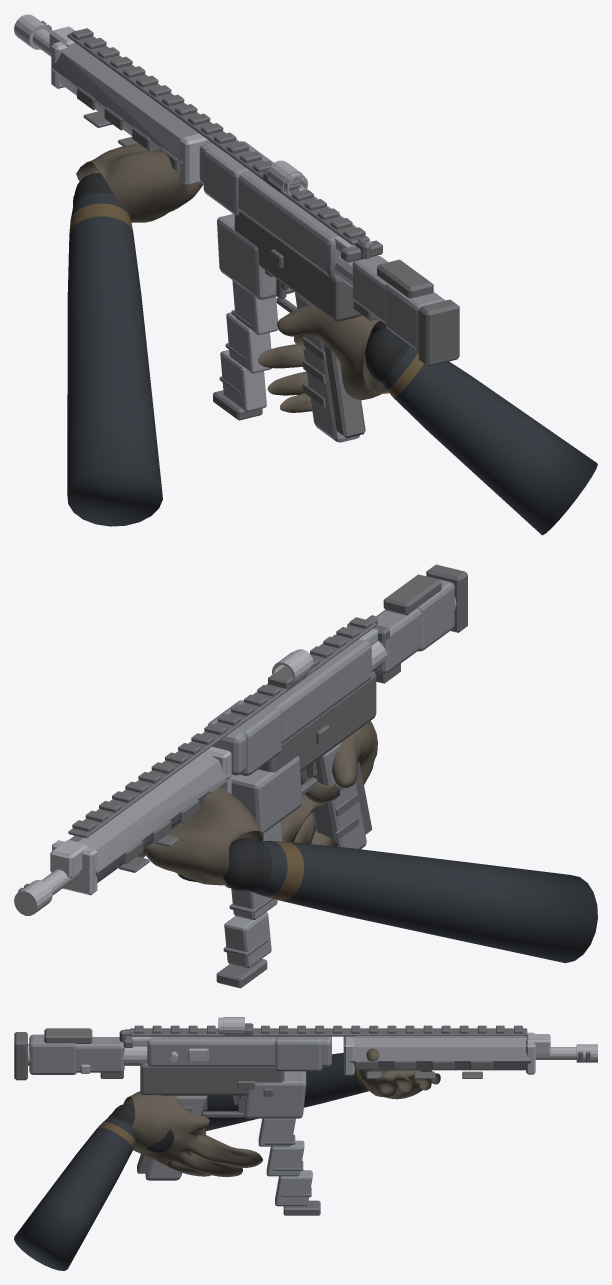
Rendered from WPN_AssaultRifle.glb.
3 renders of one model, top to bottom at view 1: azimuth 30°, elevation 25°; view 2: azimuth 150°, elevation 25°; view 3: azimuth 270°, elevation 25°, orthographic. The views are drawn at different scales.
Visible parts, largest first — view 1: Body, ForearmL, ForearmR, HandR, Mag, HandL, WristCuffR, Slide; view 2: Body, ForearmL, HandL, Mag, HandR, WristCuffL; view 3: Body, ForearmR, HandR, Mag, ForearmL, HandL, Slide.
Part boxes in pixels (x1,y1,x2,y2): Body: (14,14,459,442); ForearmL: (67,184,162,526); ForearmR: (377,344,597,535); HandR: (257,304,388,412); Mag: (213,280,278,420); HandL: (76,143,203,222); WristCuffR: (365,327,407,382); Slide: (332,231,382,262); Body: (14,564,467,915); ForearmL: (247,840,597,963); HandL: (137,787,263,888); Mag: (216,821,282,988); HandR: (280,721,377,846); WristCuffL: (223,838,259,890); Body: (14,1017,597,1180); ForearmR: (14,1114,136,1270); HandR: (123,1091,262,1177); Mag: (258,1118,320,1215); ForearmL: (203,1053,369,1131); HandL: (357,1048,440,1099); Slide: (119,1029,159,1047).
Size of the model in its own units: 0.5131 by 0.3348 by 0.8524.
